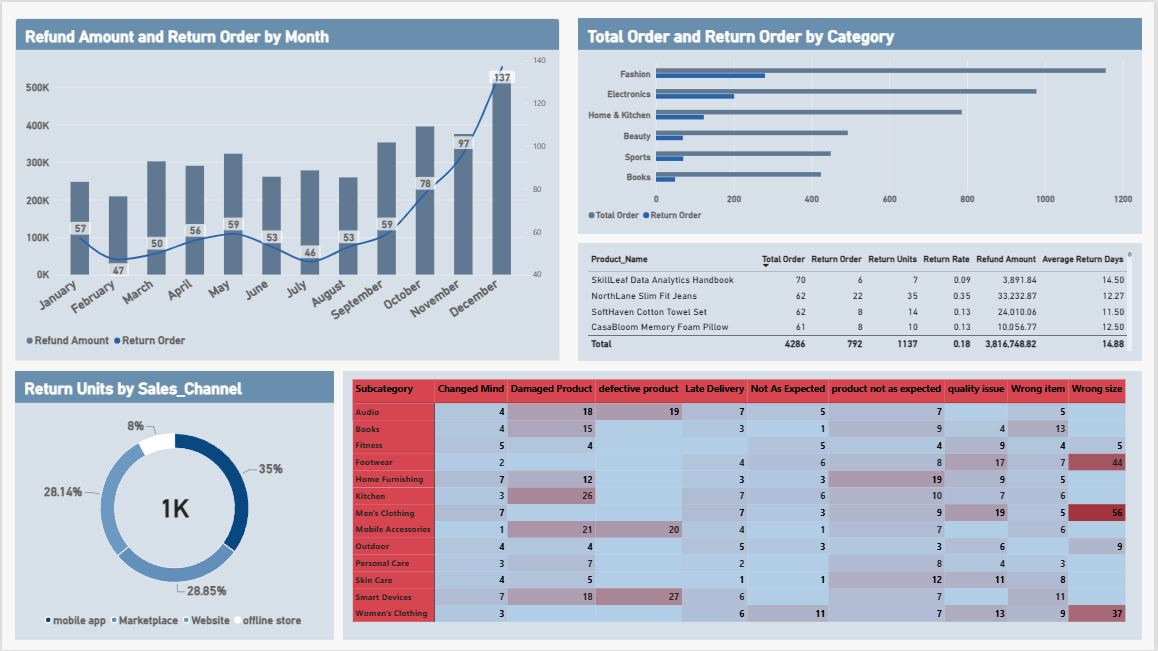

The page's visual inventory and layout, read from the dashboard file:
{"tool":"powerbi","page":{"name":"Page 2","canvas":[1920,1080],"ordinal":1},"visuals":[{"type":"shape","box":[568.3,615,1331.7,448.3],"z":0},{"type":"shape","box":[21.7,615,531.7,448.3],"z":1000},{"type":"shape","box":[21.7,26.7,908.3,571.7],"z":2000},{"type":"shape","box":[960,401.7,940,196.7],"z":3000},{"type":"shape","box":[960,26.7,940,360],"z":4000},{"type":"pivotTable","fields":{"Columns":["Orders.Return_Reason"],"Rows":["Orders.Subcategory"],"Values":["Orders.return_reason_count"]},"box":[568.3,615,1332,447.9],"z":5000},{"type":"tableEx","fields":{"Values":["Orders.Product_Name","Orders.Total Order","Orders.Return Order","Orders.Return Units","Orders.Return Rate","Orders.Refund Amount","Orders.Average Return Days"]},"box":[960,401.7,940,196.7],"z":6000},{"type":"shape","box":[960,26.7,940,53.3],"z":7000},{"type":"shape","box":[21.7,26.7,908.3,53.3],"z":8000},{"type":"lineStackedColumnComboChart","fields":{"Category":["Orders.Order_Date.Variation.Date Hierarchy.Month"],"Y":["Orders.Refund Amount"],"Y2":["Orders.Return Order"]},"box":[21.7,26.7,908.3,571.7],"z":9000},{"type":"clusteredBarChart","fields":{"Category":["Orders.Category"],"Y":["Orders.Total Order","Orders.Return Order"]},"box":[960,26.7,940,360],"z":10000},{"type":"shape","box":[21.7,615,531.7,53.3],"z":11000},{"type":"donutChart","fields":{"Category":["Orders.Sales_Channel"],"Y":["Orders.Return Units"]},"box":[21.7,615,531.7,448.3],"z":12000}]}

Visuals, with their boxes in screenshot pixels (x1, y1, x2, y2), scaled from the page's 1920x1080 canvas onto the 1158x651 screenshot:
shape: [left=343, top=371, right=1146, bottom=641]
shape: [left=13, top=371, right=334, bottom=641]
shape: [left=13, top=16, right=561, bottom=361]
shape: [left=579, top=242, right=1146, bottom=361]
shape: [left=579, top=16, right=1146, bottom=233]
pivotTable - Orders.Return_Reason x Orders.Subcategory: [left=343, top=371, right=1146, bottom=641]
tableEx - Orders.Product_Name x Orders.Total Order: [left=579, top=242, right=1146, bottom=361]
shape: [left=579, top=16, right=1146, bottom=48]
shape: [left=13, top=16, right=561, bottom=48]
lineStackedColumnComboChart - Orders.Order_Date.Variation.Date Hierarchy.Month x Orders.Refund Amount: [left=13, top=16, right=561, bottom=361]
clusteredBarChart - Orders.Category x Orders.Total Order: [left=579, top=16, right=1146, bottom=233]
shape: [left=13, top=371, right=334, bottom=403]
donutChart - Orders.Sales_Channel x Orders.Return Units: [left=13, top=371, right=334, bottom=641]
